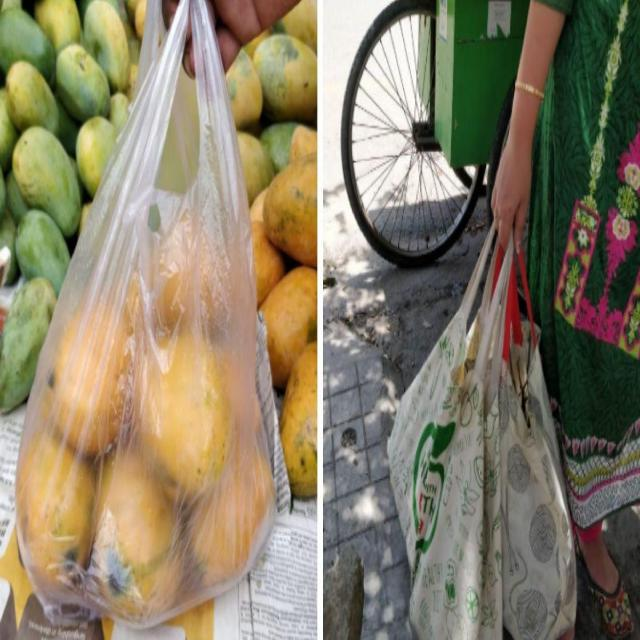plastic_bag: (28, 2, 302, 640), (366, 194, 519, 640), (491, 220, 602, 640)
